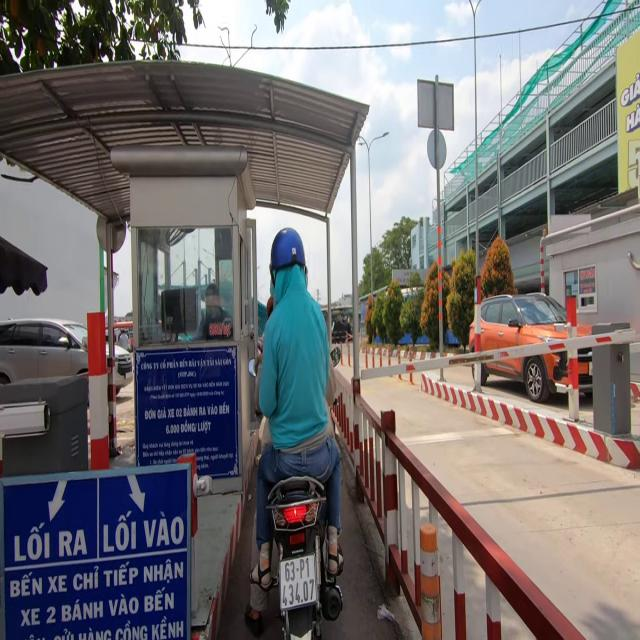bien_trang: (276, 556, 320, 610)
